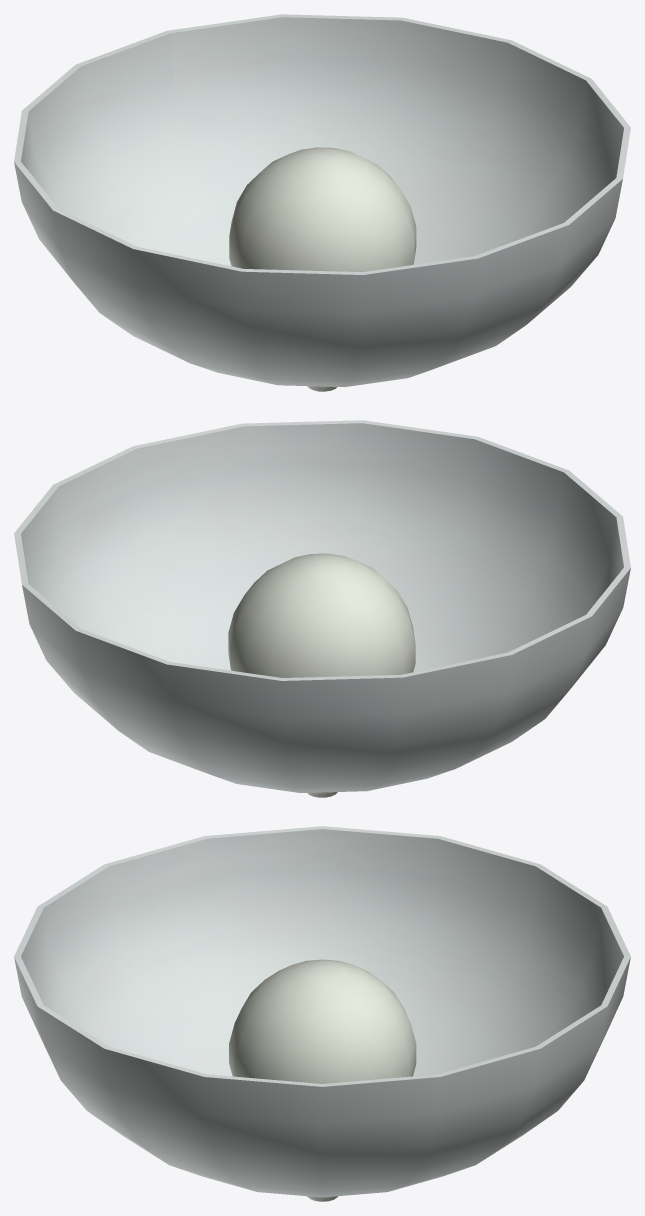
The model's file is Lamp2.fbx.
3 views of the same model, one above another, from view 1: azimuth 30°, elevation 25°; view 2: azimuth 150°, elevation 25°; view 3: azimuth 270°, elevation 25° (orthographic).
Parts seen in each view (by area): view 1: polySurface1275; view 2: polySurface1275; view 3: polySurface1275.
Part boxes in pixels (x1,y1,x2,y2): polySurface1275: (14, 14, 630, 391); polySurface1275: (14, 420, 630, 797); polySurface1275: (14, 826, 630, 1201).
Size of the model in its own units: 0.387 by 0.1651 by 0.387.
Materials: 1 (1 with a texture image).
